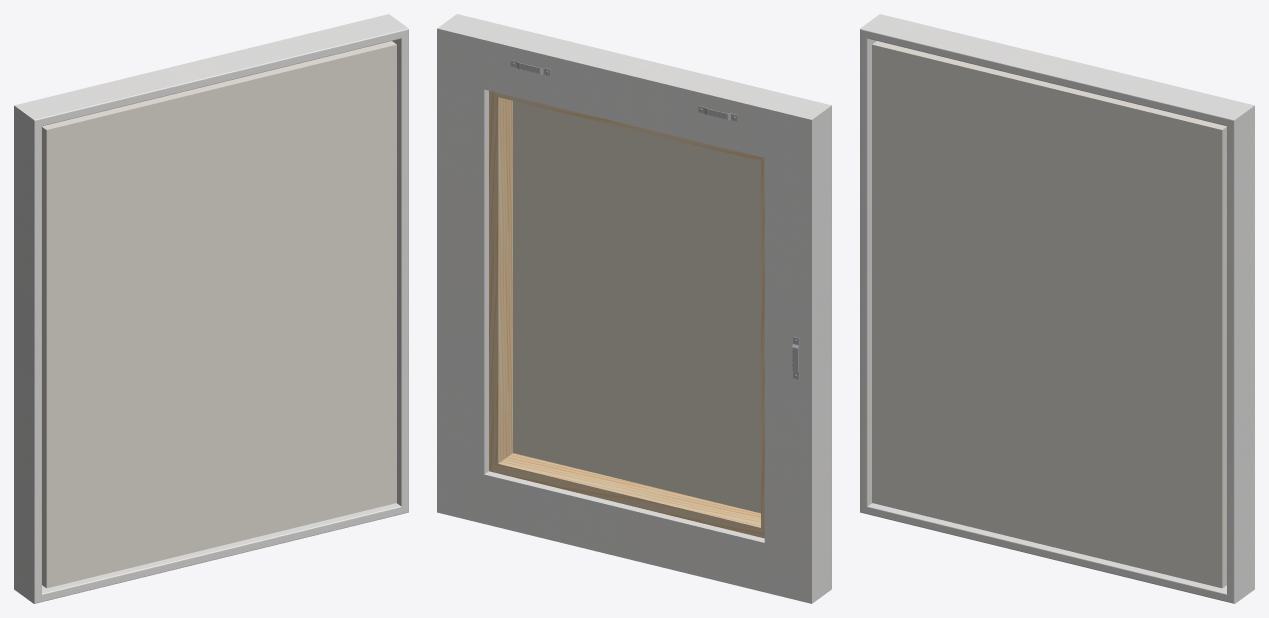
The model's file is decoded-from-delivery.glb.
3 renders of one model, left to right at view 1: azimuth 30°, elevation 25°; view 2: azimuth 150°, elevation 25°; view 3: azimuth 330°, elevation 25°, orthographic.
Parts seen in each view (by area): view 1: Canvas artwork front, Tray approved profile 0; view 2: Tray approved profile 0, Canvas linen reverse, Stretcher top, Sawtooth hanger 0; view 3: Canvas artwork front, Tray approved profile 0.
Boxes of the visible parts, x1,y1,x2,y2 form: Canvas artwork front: (42,41,396,588); Tray approved profile 0: (14,14,408,603); Tray approved profile 0: (437,14,831,603); Canvas linen reverse: (513,101,760,513); Stretcher top: (489,90,764,538); Sawtooth hanger 0: (510,60,799,379); Canvas artwork front: (872,41,1226,588); Tray approved profile 0: (860,14,1254,603).
Bounding box in the file's own units: 0.428 × 0.528 × 0.0424.
7 materials, 3 textured.
